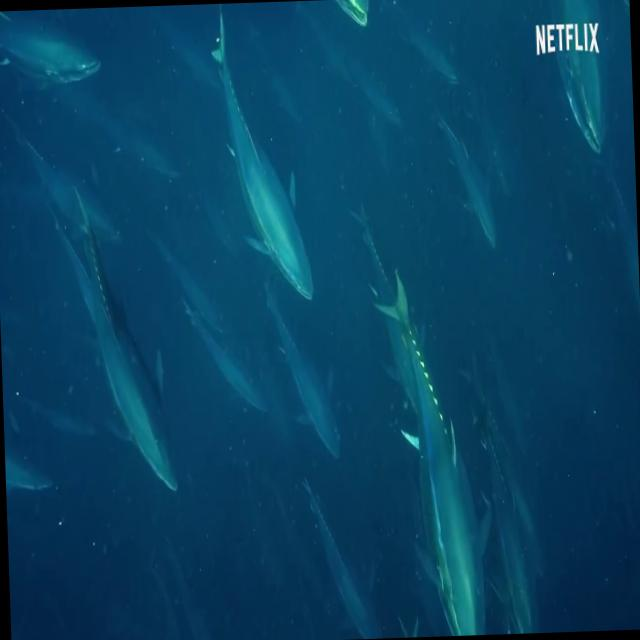fish: (40, 165, 182, 498), (379, 274, 494, 638), (210, 15, 314, 301)
